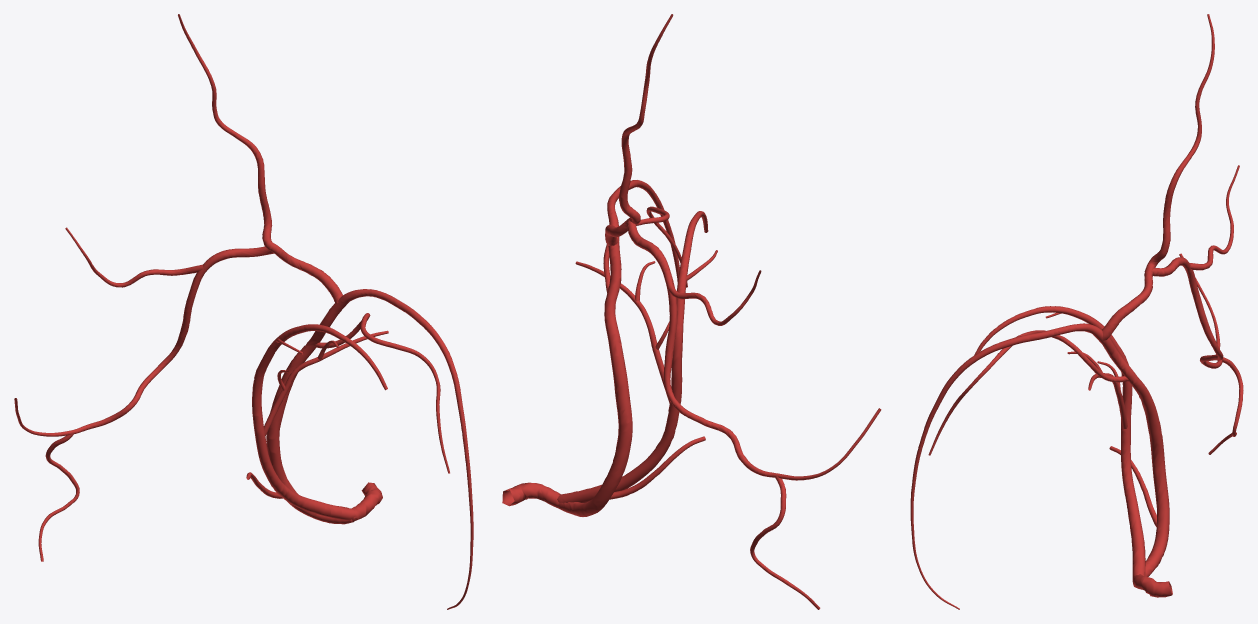
3 renders of one model, left to right at view 1: azimuth 30°, elevation 25°; view 2: azimuth 150°, elevation 25°; view 3: azimuth 270°, elevation 25°, orthographic. The views are drawn at different scales.
Parts seen in each view (by area): view 1: 右侧大脑后动脉; view 2: 右侧大脑后动脉; view 3: 右侧大脑后动脉.
Part boxes in pixels (box(x1,y1,x2,y2)): 右侧大脑后动脉: box(14, 14, 473, 609); 右侧大脑后动脉: box(502, 14, 881, 609); 右侧大脑后动脉: box(910, 14, 1243, 609).
Size of the model in its own units: 0.0834 by 0.1204 by 0.0688.
